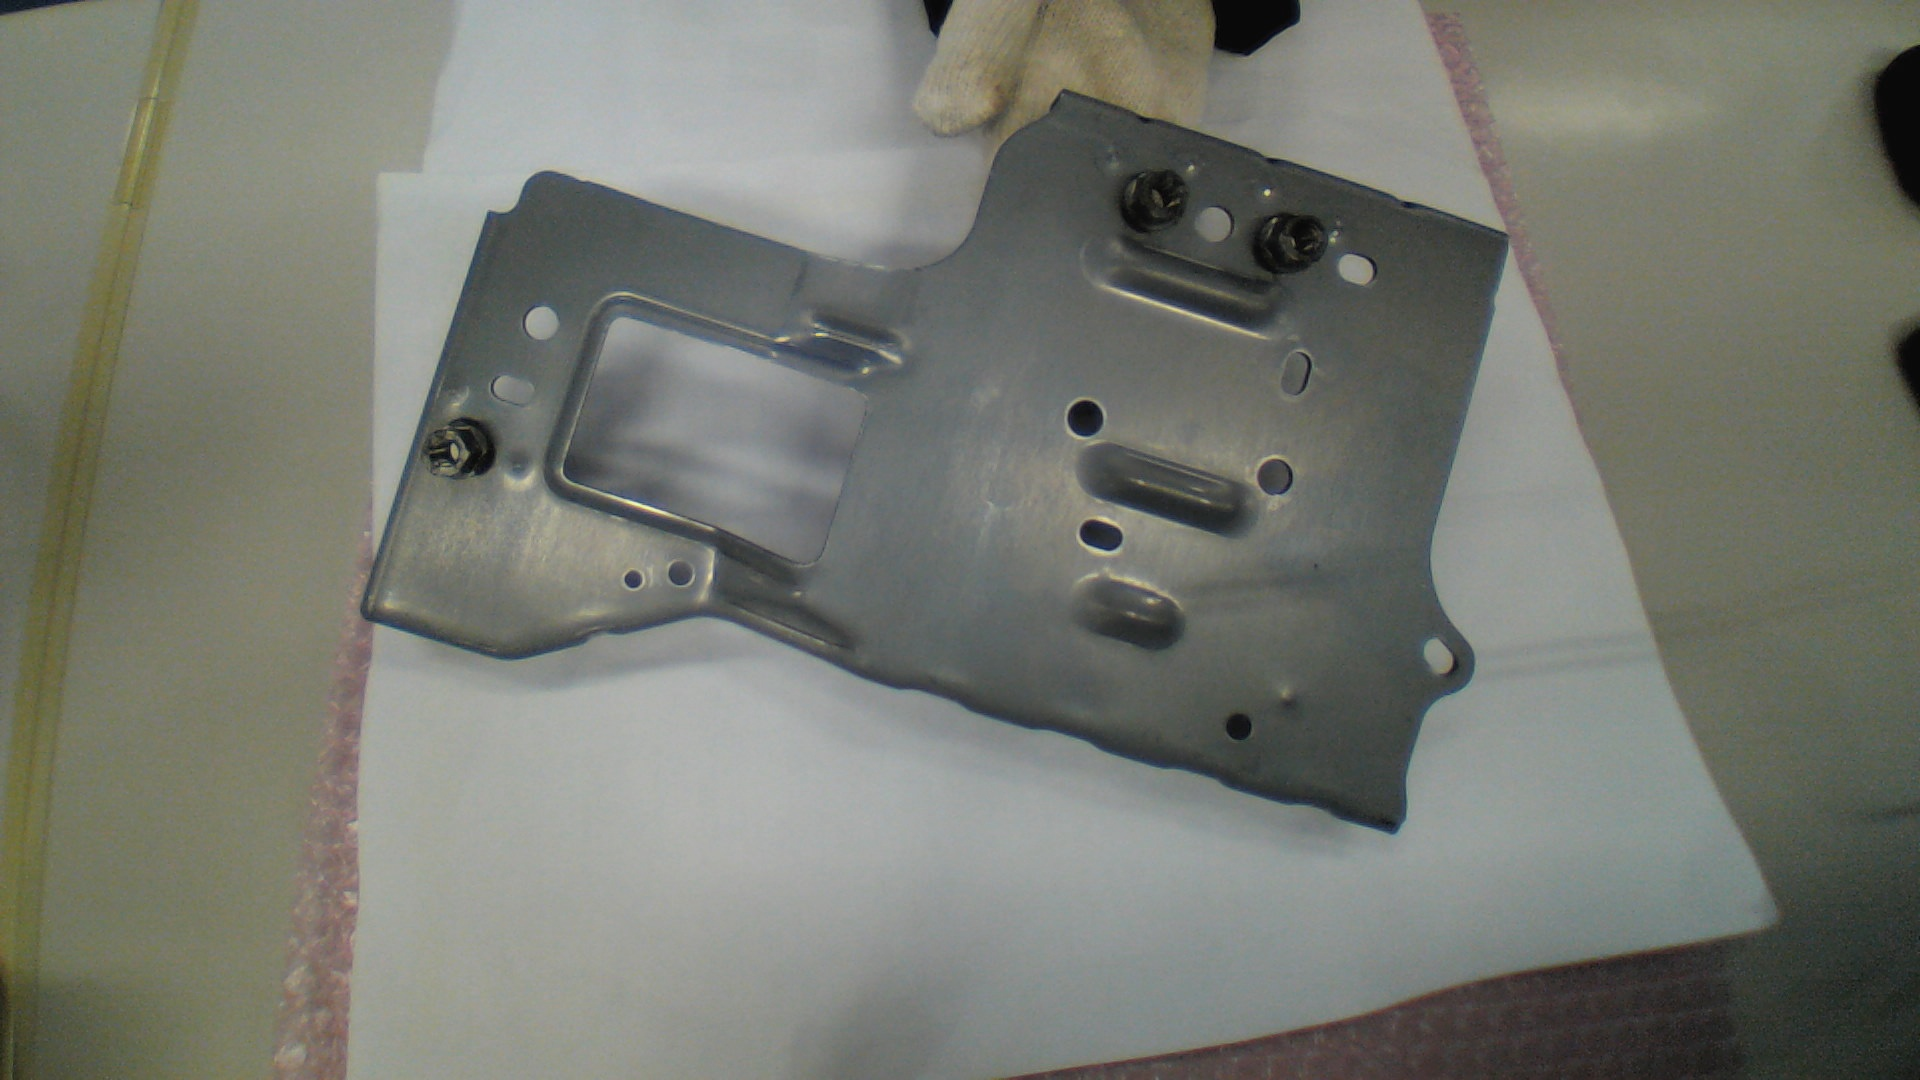dog: (1255, 210, 1327, 277), (1120, 167, 1188, 236), (423, 419, 495, 481)
